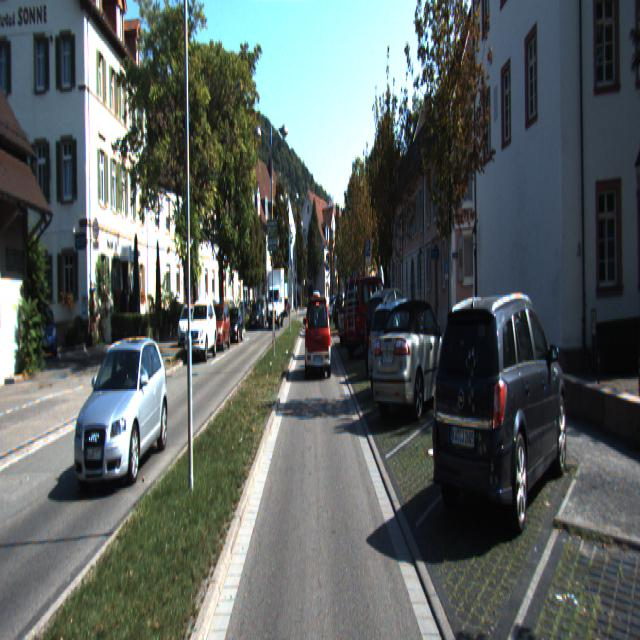Car: (430, 285, 571, 546), (74, 333, 171, 488), (371, 296, 456, 423), (367, 296, 434, 399), (364, 287, 420, 379), (342, 276, 393, 358), (306, 297, 332, 381), (185, 300, 218, 362), (338, 294, 377, 346), (208, 304, 232, 353), (36, 307, 58, 357), (266, 272, 285, 329), (332, 295, 358, 331), (178, 305, 197, 347), (224, 309, 243, 345), (248, 302, 264, 331)
